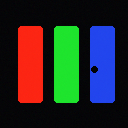0 point: (91, 66, 97, 72)
